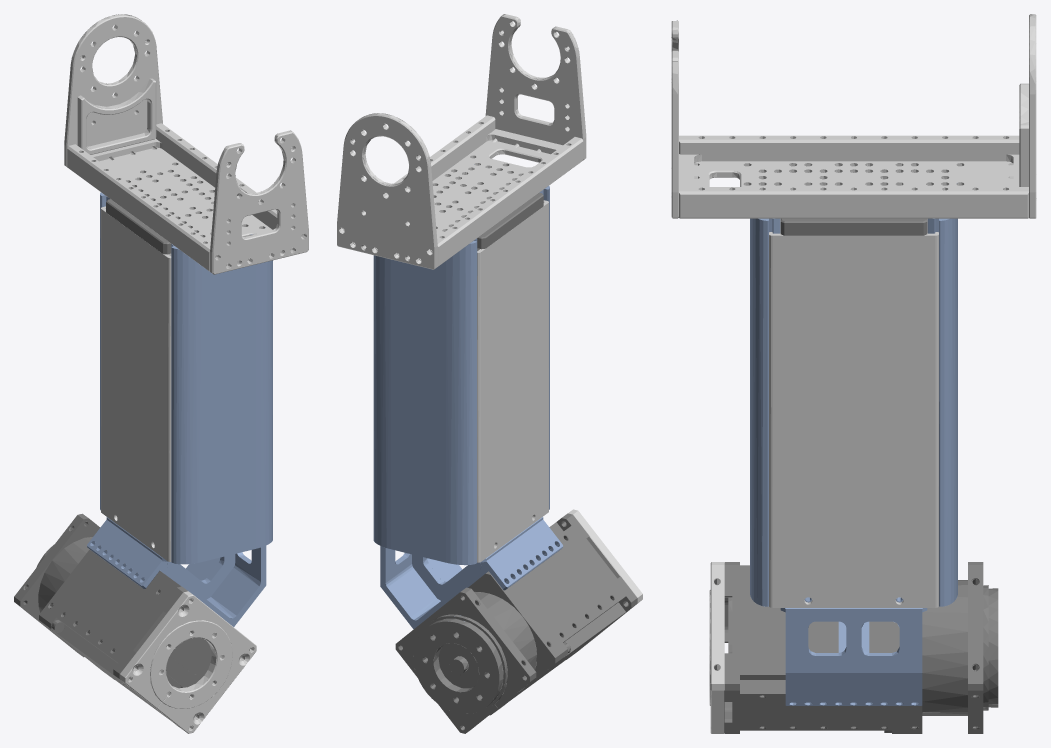
Rendered from robotis_arm_link2.dae.
3 views of the same model, side by side, from view 1: azimuth 30°, elevation 25°; view 2: azimuth 150°, elevation 25°; view 3: azimuth 270°, elevation 25° (orthographic). The views are drawn at different scales.
Visible parts, largest first — view 1: Untitled, Untitled_004, Untitled_002, Untitled_008, Untitled_007, Untitled_009, Untitled_006, Untitled_003, Untitled_005; view 2: Untitled_001, Untitled_002, Untitled_004, Untitled_008, Untitled_007, Untitled_006, Untitled_003, Untitled_005, Untitled_009; view 3: Untitled_004, Untitled_008, Untitled_002, Untitled_003, Untitled, Untitled_001, Untitled_009, Untitled_007, Untitled_005, Untitled_006.
Boxes of the visible parts, left/top/right/bottom form: Untitled: left=171, top=227, right=272, bottom=564; Untitled_004: left=100, top=206, right=171, bottom=561; Untitled_002: left=14, top=513, right=211, bottom=727; Untitled_008: left=67, top=123, right=303, bottom=271; Untitled_007: left=64, top=14, right=162, bottom=167; Untitled_009: left=120, top=591, right=256, bottom=733; Untitled_006: left=210, top=130, right=308, bottom=274; Untitled_003: left=87, top=517, right=266, bottom=626; Untitled_005: left=106, top=180, right=201, bottom=254; Untitled_001: left=373, top=238, right=477, bottom=565; Untitled_002: left=395, top=513, right=637, bottom=733; Untitled_004: left=477, top=200, right=548, bottom=562; Untitled_008: left=342, top=115, right=583, bottom=266; Untitled_007: left=337, top=113, right=437, bottom=269; Untitled_006: left=485, top=14, right=586, bottom=160; Untitled_003: left=380, top=517, right=563, bottom=629; Untitled_005: left=444, top=174, right=543, bottom=249; Untitled_009: left=568, top=509, right=642, bottom=652; Untitled_004: left=769, top=219, right=938, bottom=607; Untitled_008: left=679, top=135, right=1028, bottom=218; Untitled_002: left=724, top=562, right=998, bottom=733; Untitled_003: left=780, top=597, right=927, bottom=705; Untitled: left=750, top=218, right=780, bottom=606; Untitled_001: left=927, top=218, right=957, bottom=606; Untitled_009: left=709, top=562, right=724, bottom=733; Untitled_007: left=1019, top=14, right=1036, bottom=218; Untitled_005: left=780, top=163, right=927, bottom=235; Untitled_006: left=671, top=20, right=678, bottom=218.
Bounding box in the file's own units: 0.0958 × 0.144 × 0.3243.
